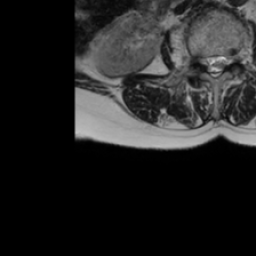CCS_normal: (212, 47, 218, 85)
LFS_normal: (226, 45, 236, 71)
LLS_normal: (218, 47, 226, 79)
RFS_normal: (197, 46, 204, 71)
RLS_normal: (204, 47, 212, 81)
